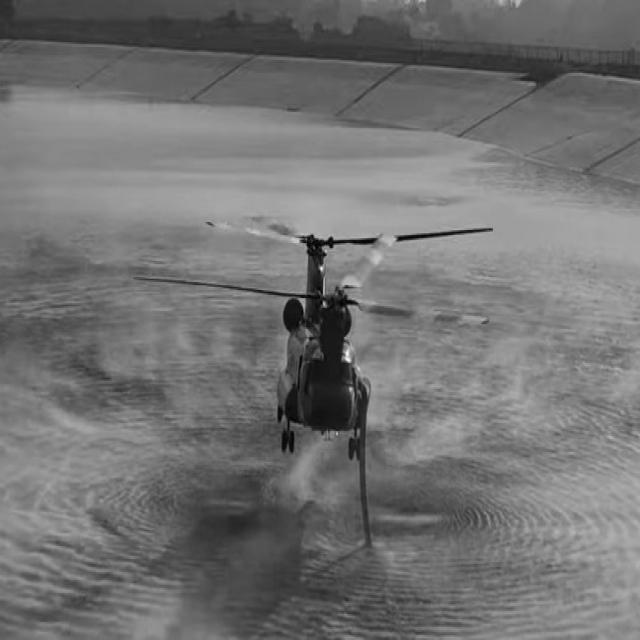Helicopter: (151, 228, 492, 544)
